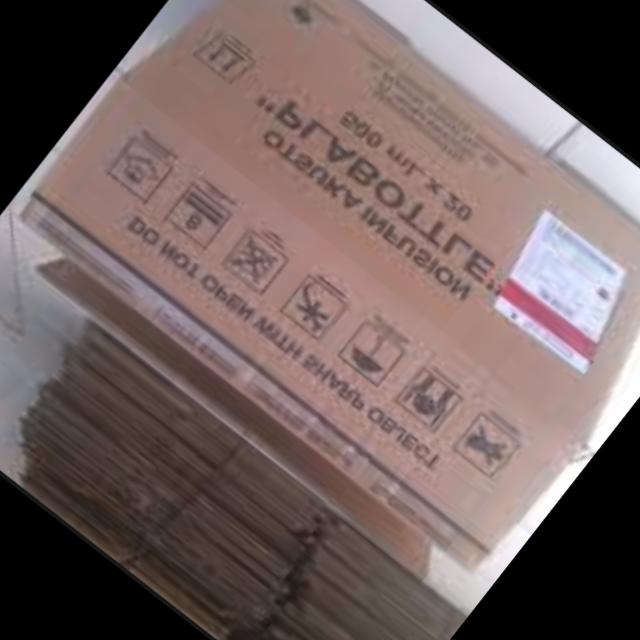Kardus: (0, 0, 640, 599), (0, 315, 468, 640)
